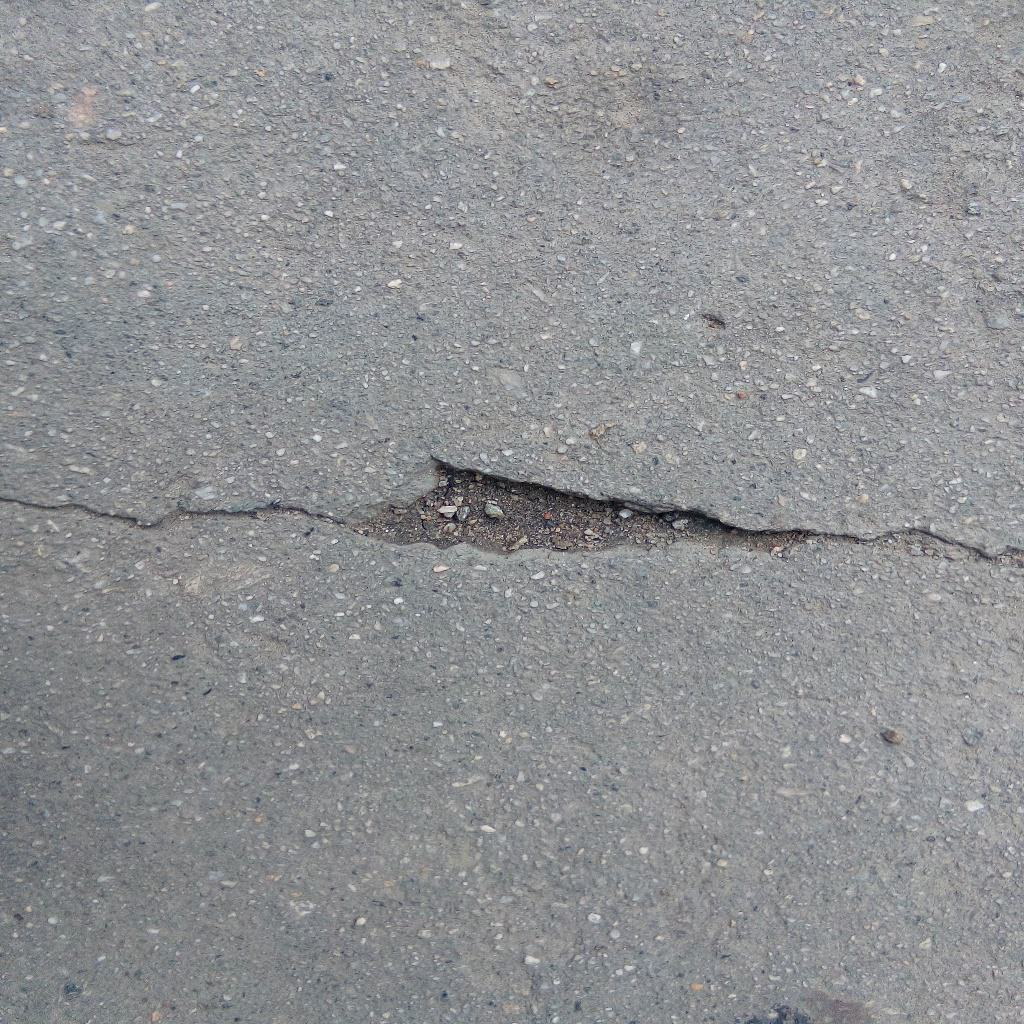Crack: (1, 494, 346, 528), (813, 524, 1024, 566)
Spalling: (345, 450, 812, 555)
